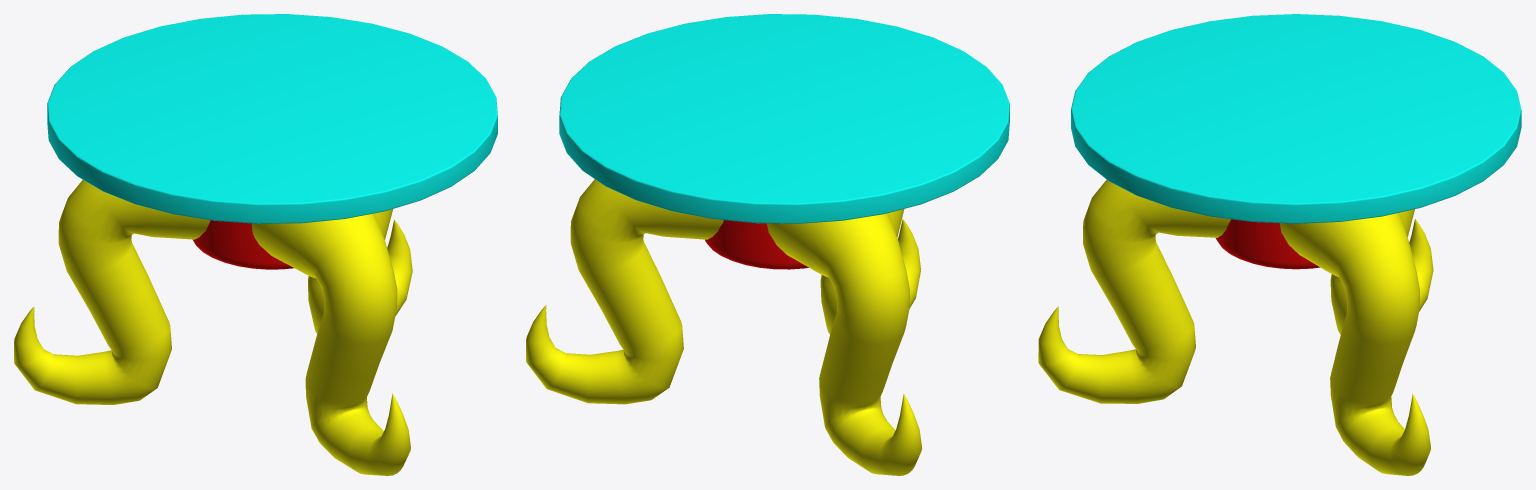
Rendered from umgebung_telefontisch_low.FBX.
The picture shows the model from 3 angles, left to right: view 1: azimuth 30°, elevation 25°; view 2: azimuth 150°, elevation 25°; view 3: azimuth 270°, elevation 25°; orthographic projection.
Parts seen in each view (by area): view 1: o_tischplatte_low, i_tentakel_low (×2), o_tentakel_low, o_sockel_low; view 2: o_tischplatte_low, i_tentakel_low (×2), o_tentakel_low, o_sockel_low; view 3: o_tischplatte_low, i_tentakel_low (×2), o_sockel_low, o_tentakel_low.
Part boxes in pixels (box(x1,y1,x2,y2)): o_tischplatte_low: box(47, 14, 497, 223); i_tentakel_low (×2): box(251, 209, 412, 475); o_tentakel_low: box(14, 180, 210, 404); o_sockel_low: box(193, 220, 293, 269); o_tischplatte_low: box(559, 14, 1009, 223); i_tentakel_low (×2): box(526, 179, 920, 404); o_tentakel_low: box(766, 213, 922, 475); o_sockel_low: box(705, 220, 808, 269); o_tischplatte_low: box(1071, 14, 1521, 223); i_tentakel_low (×2): box(1038, 179, 1430, 475); o_sockel_low: box(1215, 219, 1319, 269); o_tentakel_low: box(1330, 209, 1433, 334).
Bounding box in the file's own units: 210 × 150 × 224.
